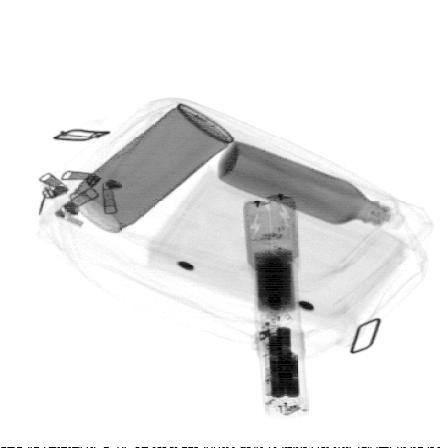Baton: (242, 191, 311, 422)
